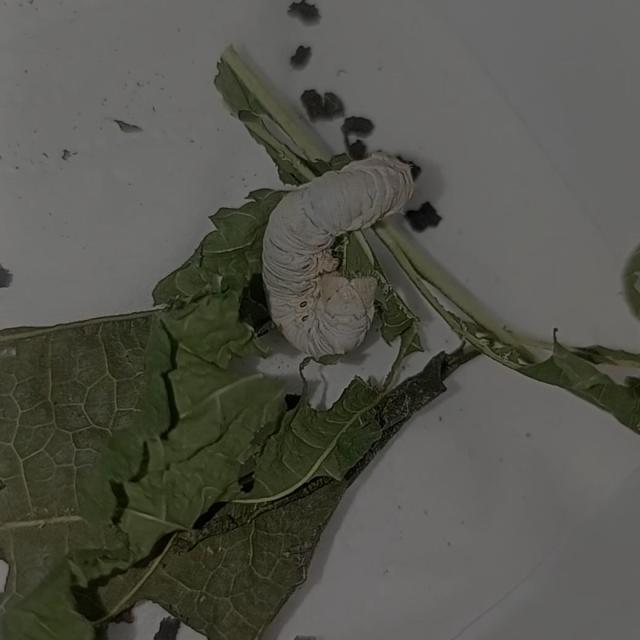Healthy: (231, 99, 475, 385)
